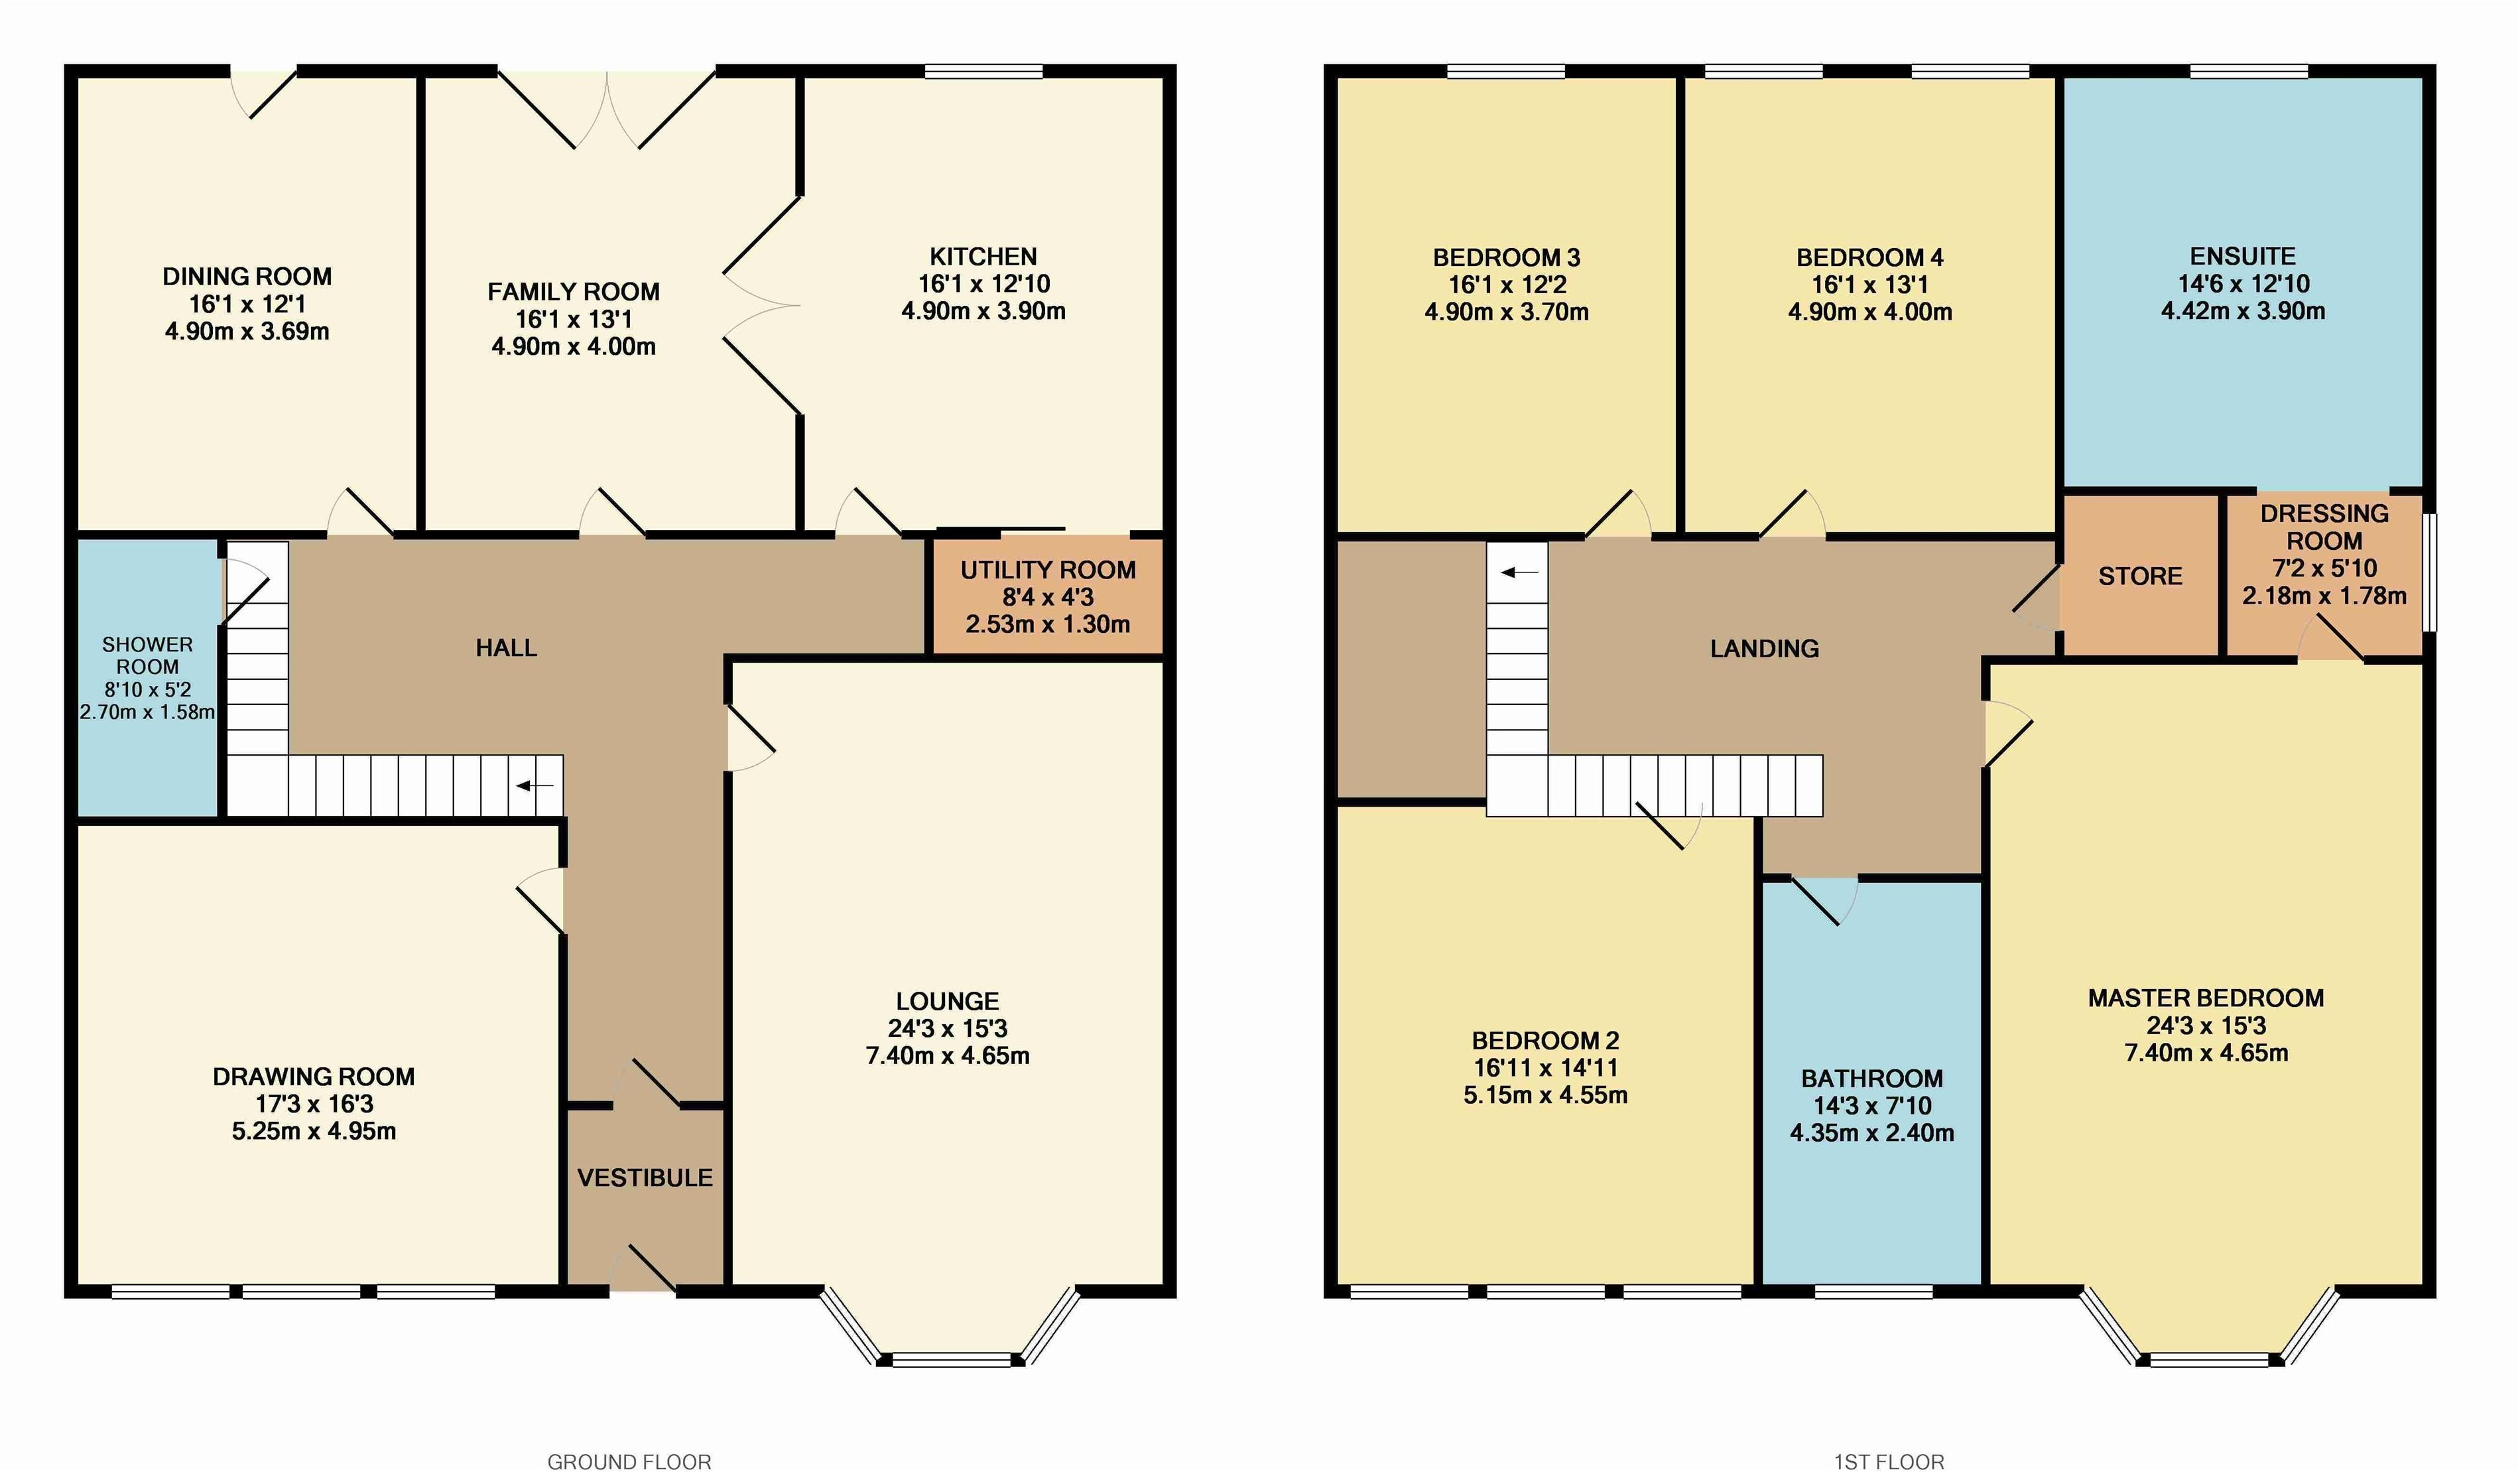door: (524, 79, 658, 175), (1790, 881, 1862, 931), (1588, 480, 1658, 529), (324, 480, 396, 527), (576, 482, 648, 529), (214, 81, 285, 128), (1758, 484, 1830, 531), (725, 231, 795, 279), (513, 864, 559, 934), (832, 485, 902, 529), (1991, 701, 2038, 766), (736, 711, 781, 773), (228, 557, 271, 617)
